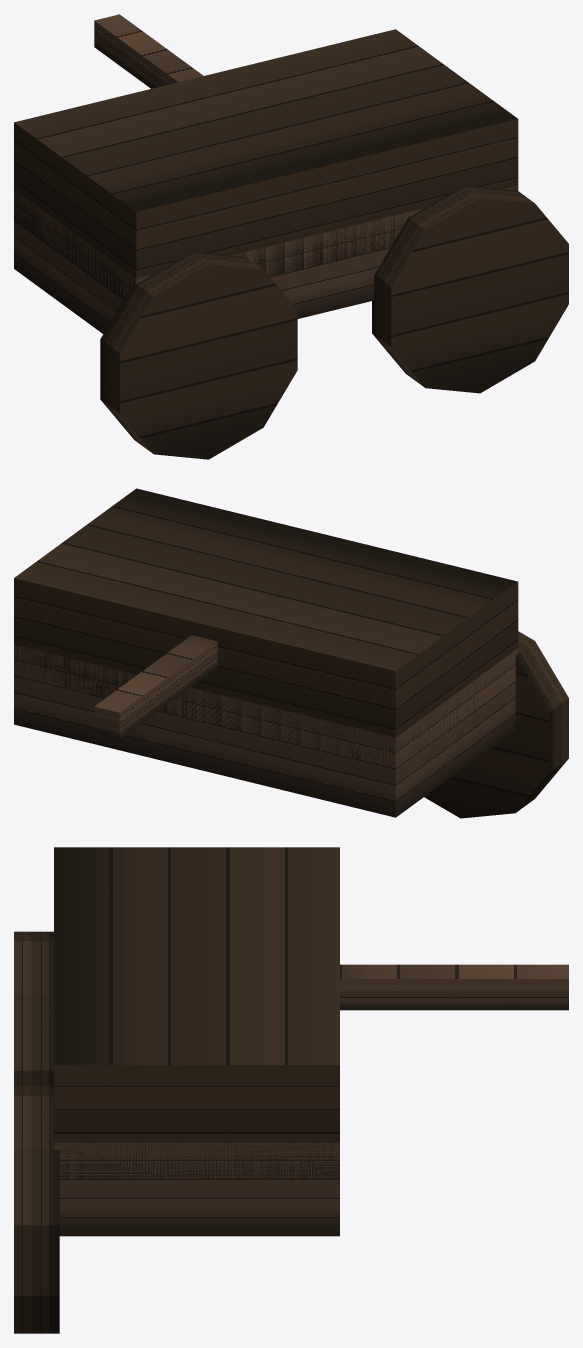
The model's file is cart.glb.
3 views of the same model, one above another, from view 1: azimuth 30°, elevation 25°; view 2: azimuth 150°, elevation 25°; view 3: azimuth 270°, elevation 25° (orthographic). The views are drawn at different scales.
Visible parts, largest first — view 1: cart; view 2: cart; view 3: cart.
Boxes of the visible parts, x1,y1,x2,y2 form: cart: (14,14,568,459); cart: (14,488,568,818); cart: (14,847,568,1333).
Size of the model in its own units: 1.06 by 0.56 by 0.97.
Materials: 1 (1 with a texture image).
